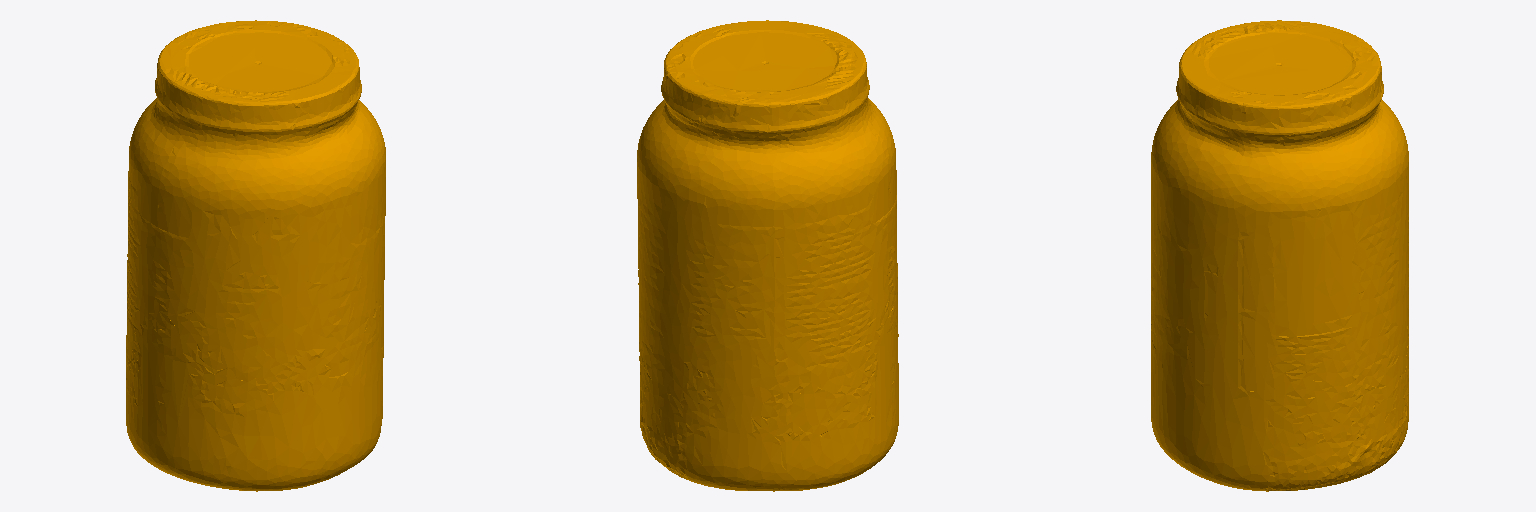
robot.urdf — Twinlab_100_Whey_Protein_Fuel_Vanilla:

<robot name="Twinlab_100_Whey_Protein_Fuel_Vanilla">
    <link name="base">
        <inertial>
            <origin xyz="0.0 1.2374956504391127e-18 0.0" />
            <mass value="0.004563156495156107" />
            <inertia ixx="2.9127181398019643e-05" ixy="-1.4289771546003285e-08" 
                     ixz="-2.144811926588727e-07" iyy="2.913715099009232e-05" 
                     iyz="-3.177393411351253e-09" izz="1.3267058535810415e-05" />
        </inertial>
        <visual>
            <origin xyz="0 0 0" />
            <geometry>
                <mesh filename="visual_geometry.obj" />
            </geometry>
        </visual>
        <collision>
            <origin xyz="0 0 0" />
            <geometry>
                <mesh filename="collision_geometry.obj" />
            </geometry>
        </collision>
    </link>
</robot>

--- What the picture shows (computed from the rendered views, not written in the file) ---
3 views of the same robot in one strip: view 1: azimuth 30°, elevation 25°; view 2: azimuth 150°, elevation 25°; view 3: azimuth 270°, elevation 25° (orthographic).
Model Twinlab_100_Whey_Protein_Fuel_Vanilla with 1 links and 0 joints (none), rooted at base, posed all joints at 0.
Visible links, largest first — view 1: base; view 2: base; view 3: base.
Boxes of the visible links, x1,y1,x2,y2 form: base: [126, 20, 385, 491]; base: [637, 20, 898, 491]; base: [1151, 20, 1408, 491].
Bounding box of the posed robot: 0.1588 × 0.1569 × 0.2592 m (x, y, z).
Meshes: 1 distinct files referenced, 1 mesh visuals loaded (1 OBJ).